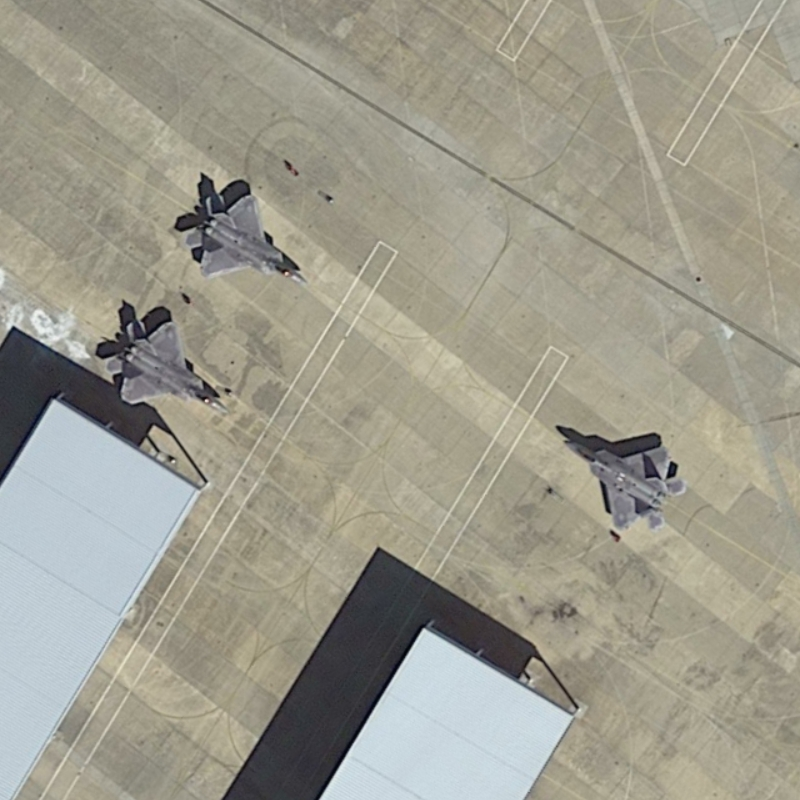A15: (94, 312, 242, 427), (163, 182, 313, 295), (554, 421, 691, 539)
